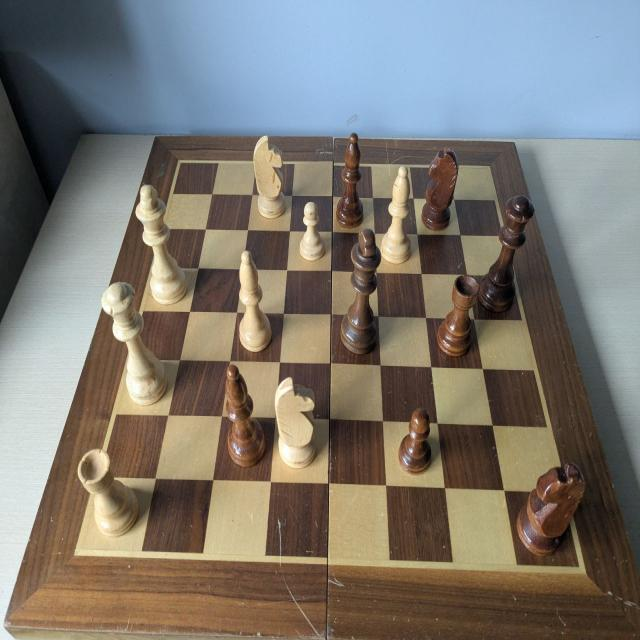black_bishop: (223, 362, 266, 466), (336, 133, 364, 229)
black_king: (342, 227, 379, 353)
black_knight: (515, 462, 585, 555), (422, 146, 458, 230)
black_pawn: (399, 408, 432, 475)
black_queen: (480, 195, 532, 312)
black_rook: (438, 274, 479, 353)
white_bishop: (236, 249, 272, 351), (380, 166, 411, 263)
white_king: (135, 183, 187, 304)
white_knight: (275, 377, 316, 467), (252, 134, 287, 221)
white_pawn: (299, 200, 324, 261)
white_queen: (98, 280, 168, 405)
white_rook: (79, 446, 140, 534)
